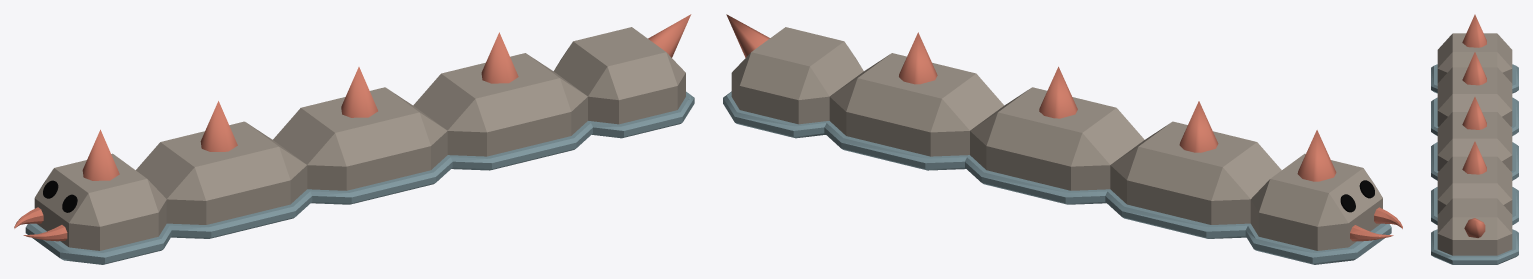
The model's file is Worm.fbx.
The picture shows the model from 3 angles, left to right: view 1: azimuth 30°, elevation 25°; view 2: azimuth 150°, elevation 25°; view 3: azimuth 270°, elevation 25°; orthographic projection. The views are drawn at different scales.
Parts seen in each view (by area): view 1: group12_group9_pCube77, group12_group10_pCube78, group12_group8_pCube17, group12_group7_pCone4, group12_group11_pCube22; view 2: group12_group10_pCube78, group12_group9_pCube77, group12_group8_pCube17, group12_group7_pCone4, group12_group11_pCube22; view 3: group12_group11_pCube22, group12_group8_pCube17, group12_group9_pCube77, group12_group10_pCube78, group12_group7_pCone4.
Boxes of the visible parts, x1,y1,x2,y2 form: group12_group9_pCube77: (273,67,452,204); group12_group10_pCube78: (413,32,592,170); group12_group8_pCube17: (136,101,312,238); group12_group7_pCone4: (25,129,171,264); group12_group11_pCube22: (553,14,694,138); group12_group10_pCube78: (824,32,1003,170); group12_group9_pCube77: (965,66,1144,204); group12_group8_pCube17: (1105,101,1281,238); group12_group7_pCone4: (1245,130,1391,264); group12_group11_pCube22: (723,14,863,138); group12_group11_pCube22: (1431,198,1518,264); group12_group8_pCube17: (1431,52,1518,135); group12_group9_pCube77: (1431,97,1518,180); group12_group10_pCube78: (1431,141,1518,225); group12_group7_pCone4: (1431,14,1518,93).
Size of the model in its own units: 2.06 by 0.3088 by 0.3573.
